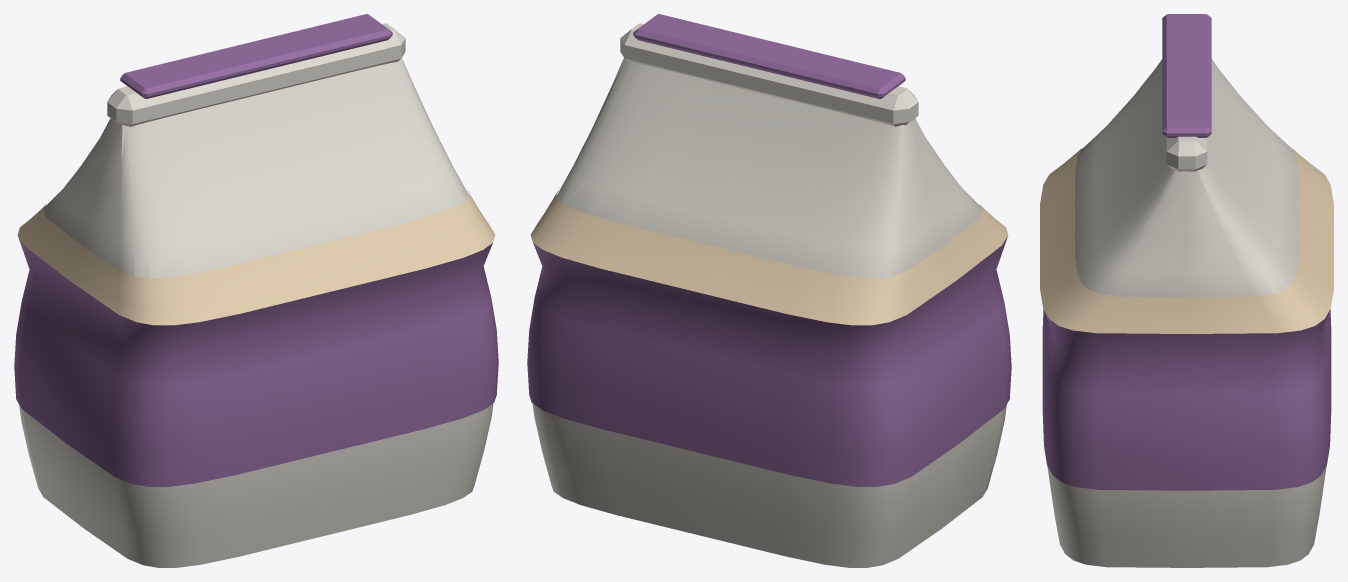
The model's file is fresh-produce-and-groceries-sugar-bag-449a0bce__24426.glb.
3 views of the same model, side by side, from view 1: azimuth 30°, elevation 25°; view 2: azimuth 150°, elevation 25°; view 3: azimuth 270°, elevation 25° (orthographic). The views are drawn at different scales.
Parts seen in each view (by area): view 1: sugar-bag; view 2: sugar-bag; view 3: sugar-bag.
Part boxes in pixels (x1=…): sugar-bag: x1=14, y1=14, x2=498, y2=567; sugar-bag: x1=527, y1=14, x2=1011, y2=567; sugar-bag: x1=1040, y1=14, x2=1333, y2=567.
Bounding box in the file's own units: 0.1484 × 0.161 × 0.1029.
